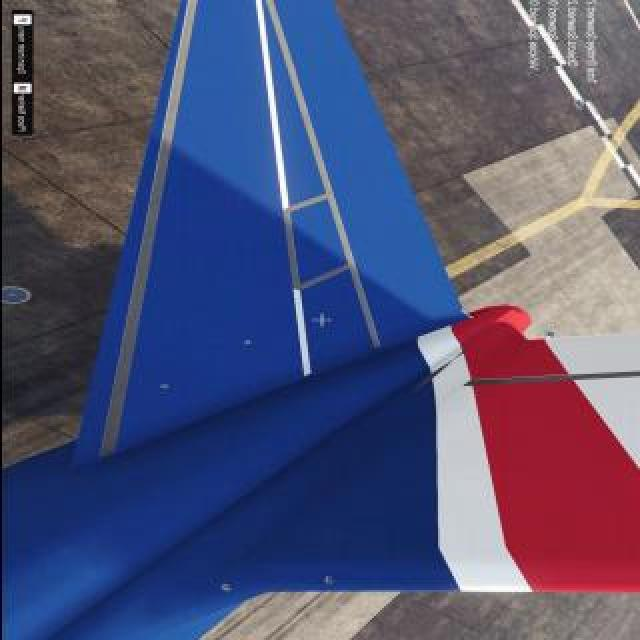crack: (152, 383, 172, 393), (322, 574, 338, 586), (239, 338, 255, 348), (219, 582, 233, 592)
